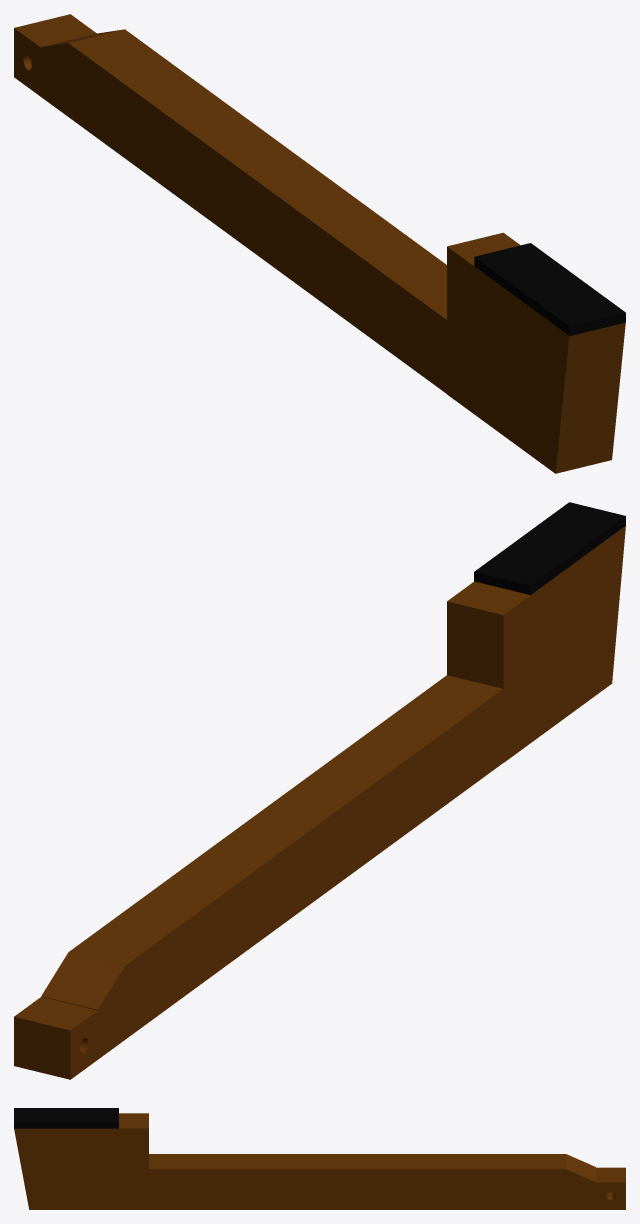
File: Single_Pedal_Upper.fbx
3 views of the same model, one above another, from view 1: azimuth 30°, elevation 25°; view 2: azimuth 150°, elevation 25°; view 3: azimuth 270°, elevation 25° (orthographic). The views are drawn at different scales.
Visible parts, largest first — view 1: polySurface20; view 2: polySurface20; view 3: polySurface20.
Part boxes in pixels (x1,y1,x2,y2): polySurface20: [14, 14, 625, 473]; polySurface20: [14, 502, 625, 1079]; polySurface20: [14, 1108, 625, 1209].
Bounding box in the file's own units: 1.2 × 3.19 × 20.42.
